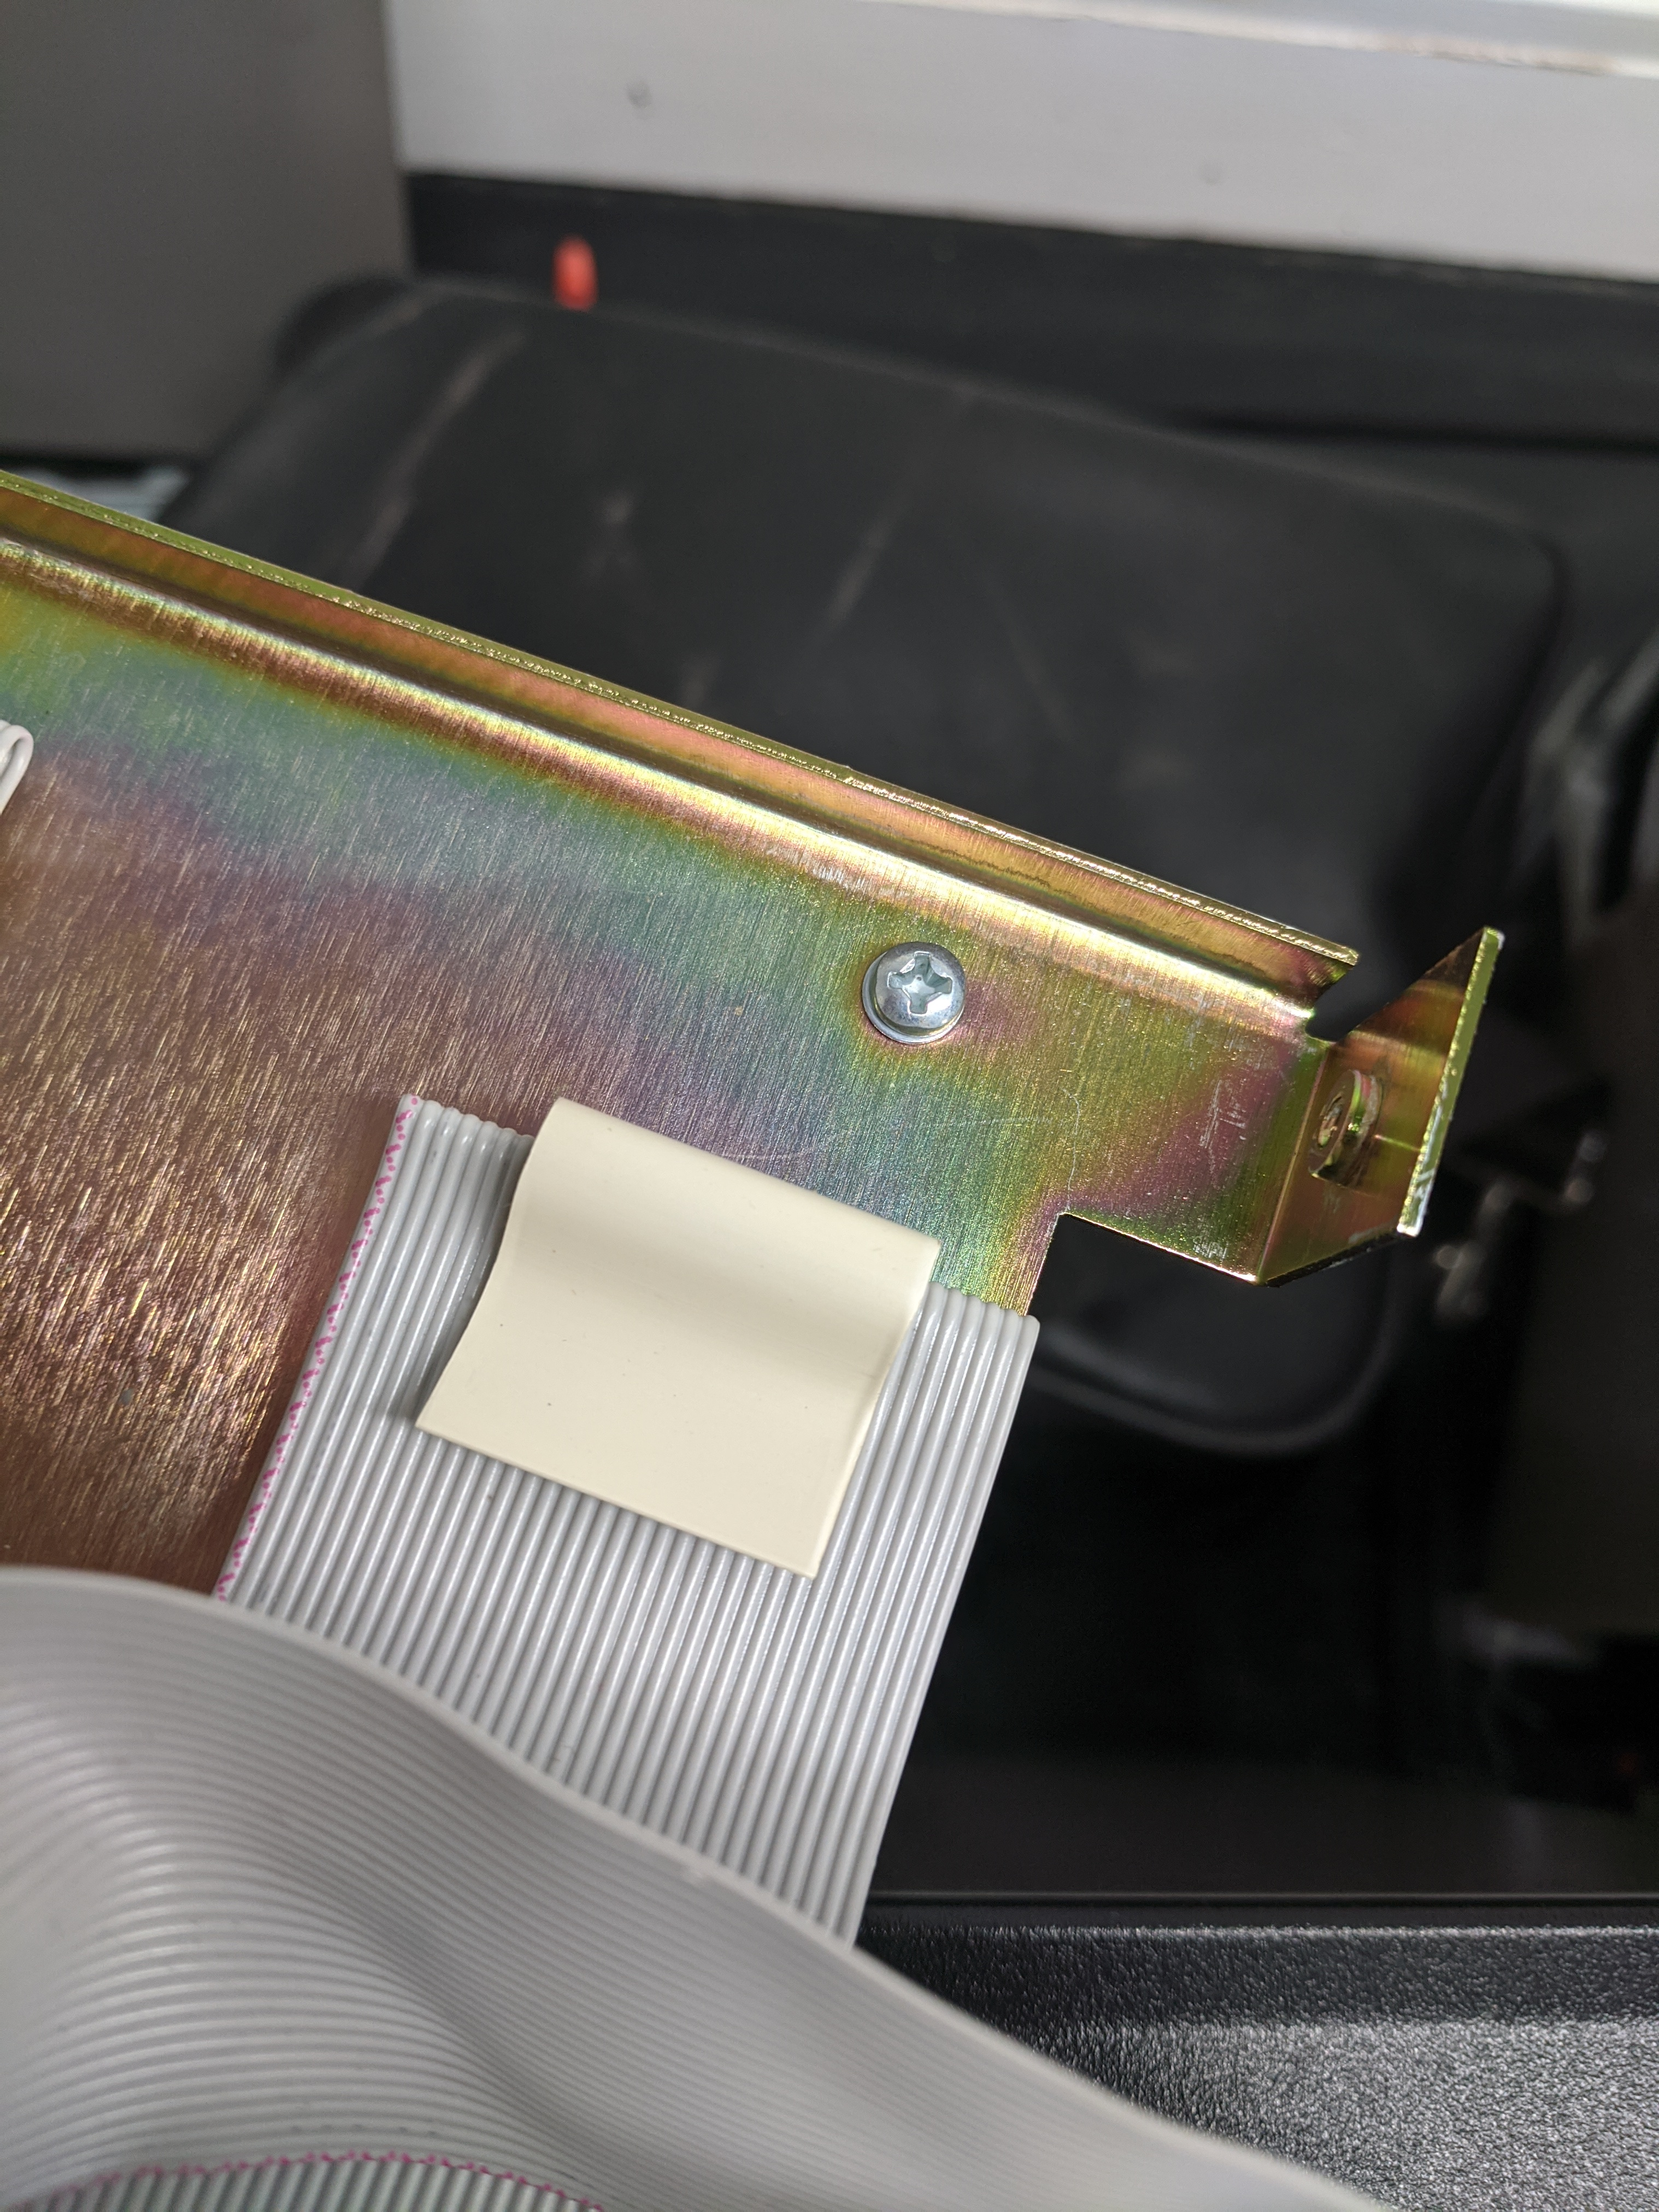cross_recessed_screw: (852, 920, 971, 1054)
